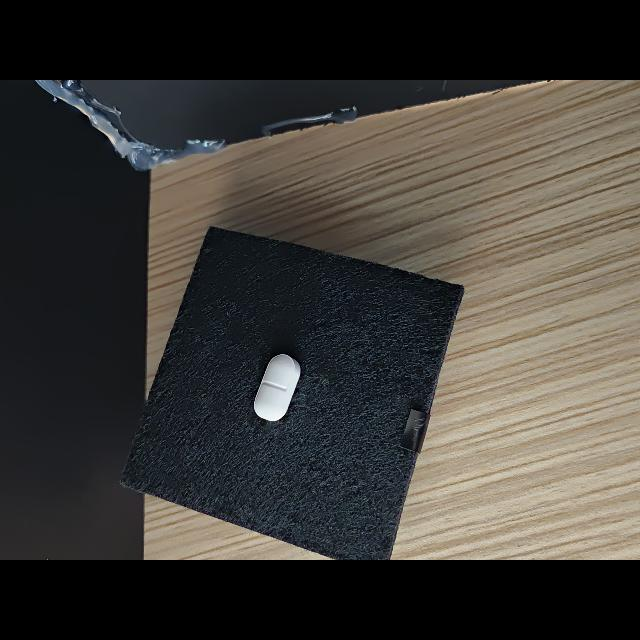Intact Pill: (254, 354, 301, 421)
